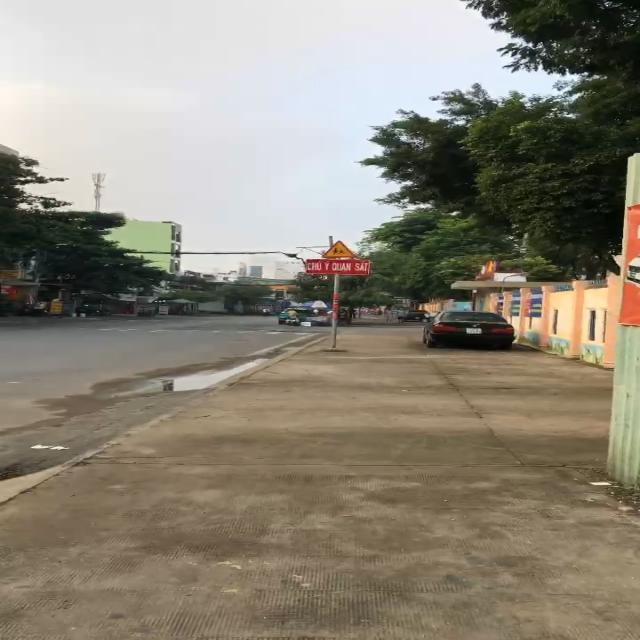Bien bao tre em: (319, 238, 359, 258)
